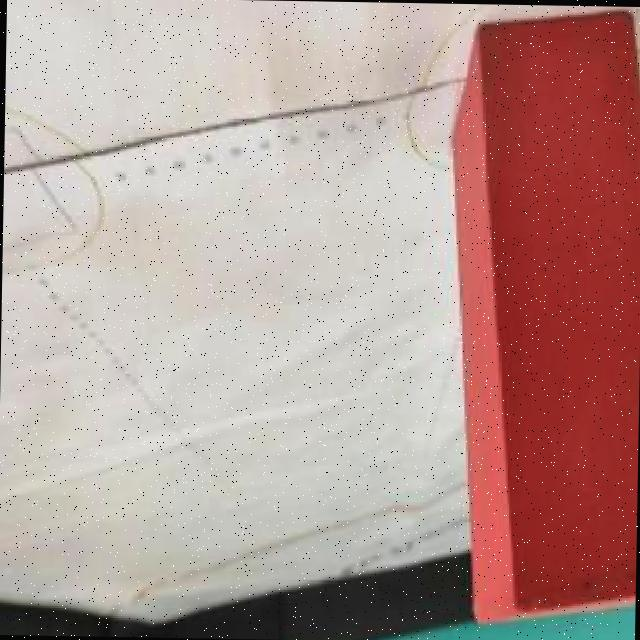redbox: (458, 14, 640, 621)
